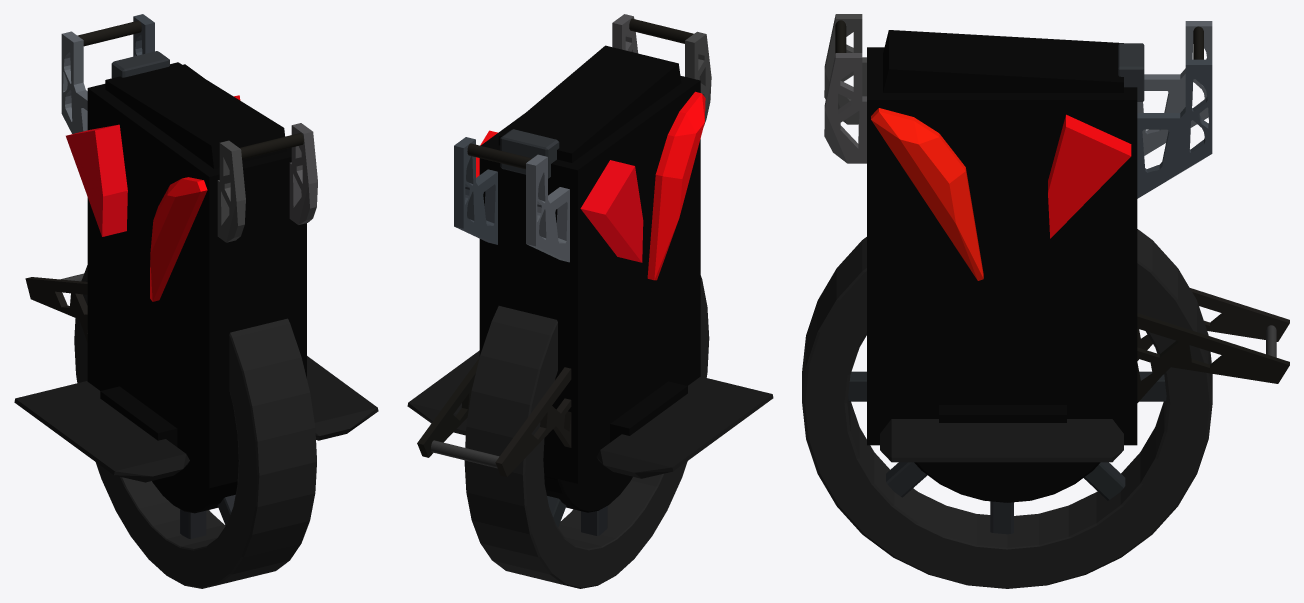
File: lynx.glb
The picture shows the model from 3 angles, left to right: view 1: azimuth 30°, elevation 25°; view 2: azimuth 150°, elevation 25°; view 3: azimuth 270°, elevation 25°; orthographic projection. The views are drawn at different scales.
Visible parts, largest first — view 1: Куб, Куб.012, Куб.001, Куб.018, Куб.022, Куб.024, Куб.021, Куб.007, Куб.006, Куб.004, Куб.008, Куб.019 (+4 smaller); view 2: Куб, Куб.012, Куб.001, Куб.018, Куб.024, Куб.022, Куб.004, Куб.002, Куб.008, Куб.009, Куб.019, Куб.021 (+6 smaller); view 3: Куб, Куб.012, Куб.001, Куб.021, Куб.025, Куб.023, Куб.009, Куб.002, Куб.006, Куб.004, Куб.008, Куб.020 (+2 smaller).
Boxes of the visible parts, x1,y1,x2,y2 form: Куб: (87, 64, 306, 488); Куб.012: (74, 265, 316, 588); Куб.001: (105, 62, 286, 168); Куб.018: (14, 381, 189, 482); Куб.022: (66, 124, 127, 236); Куб.024: (150, 177, 207, 301); Куб.021: (307, 356, 378, 440); Куб.007: (217, 140, 245, 242); Куб.006: (289, 123, 317, 224); Куб.004: (61, 31, 87, 133); Куб.008: (25, 277, 87, 342); Куб.019: (100, 386, 177, 446); Куб: (479, 75, 700, 483); Куб.012: (464, 275, 709, 588); Куб.001: (498, 45, 681, 162); Куб.018: (596, 376, 773, 478); Куб.024: (647, 91, 705, 280); Куб.022: (580, 160, 643, 262); Куб.004: (526, 154, 569, 262); Куб.002: (454, 137, 497, 244); Куб.008: (495, 367, 571, 476); Куб.009: (417, 358, 479, 457); Куб.019: (610, 381, 687, 442); Куб.021: (407, 350, 479, 435); Куб: (867, 47, 1137, 445); Куб.012: (802, 229, 1212, 588); Куб.001: (883, 30, 1123, 92); Куб.021: (880, 419, 1123, 462); Куб.025: (871, 108, 983, 280); Куб.023: (1048, 114, 1131, 238); Куб.009: (1137, 313, 1289, 402); Куб.002: (1137, 59, 1212, 198); Куб.006: (824, 53, 866, 163); Куб.004: (1137, 21, 1212, 155); Куб.008: (1137, 288, 1289, 360); Куб.020: (939, 405, 1066, 422).
Size of the model in its own units: 2.51 by 4.39 by 3.61.
